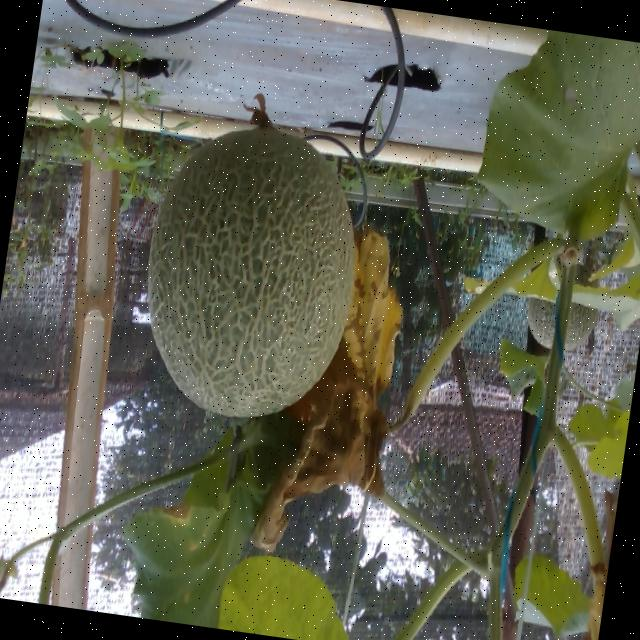melon: (146, 127, 352, 416)
